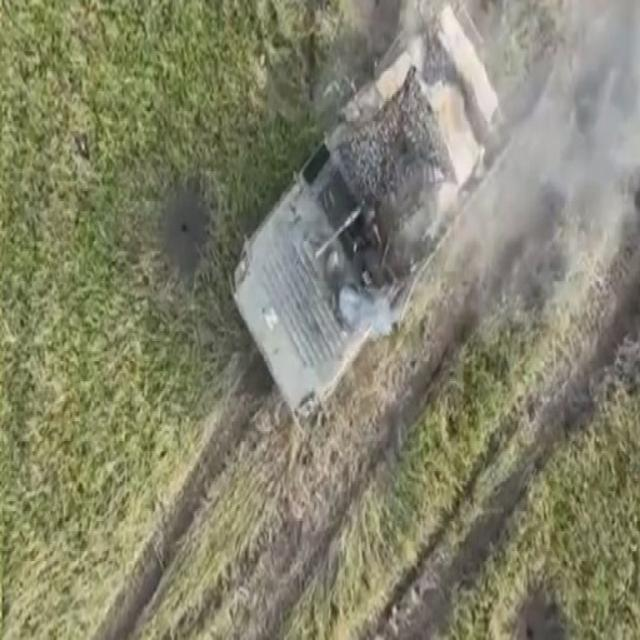APC-IFV: (228, 5, 508, 422)
